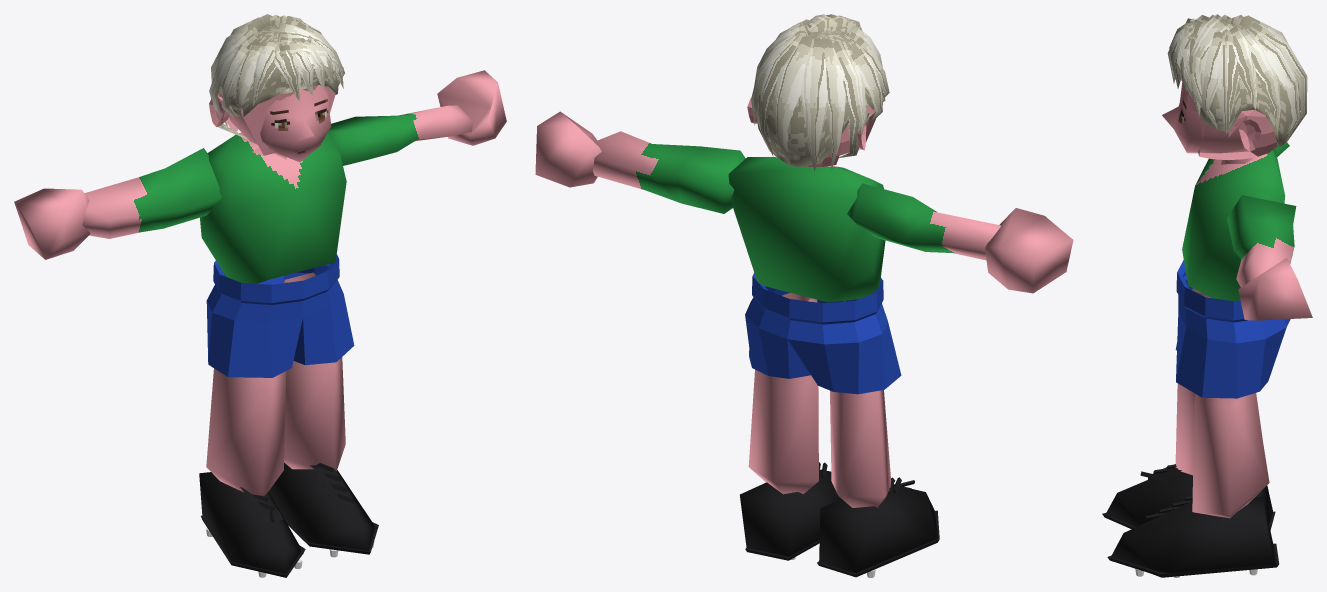
Rendered from 01-liso-repartido_loiro-pintado.glb.
3 views of the same model, side by side, from view 1: azimuth 30°, elevation 25°; view 2: azimuth 150°, elevation 25°; view 3: azimuth 270°, elevation 25° (orthographic). The views are drawn at different scales.
Parts seen in each view (by area): view 1: Camisa_Tronco, Bermuda, Cabelo, Perna.R, Braco.R, Perna.L, Chuteira.R, Chuteira.L, Braco.L, Mao.R, Cabeca, Mao.L (+3 smaller); view 2: Camisa_Tronco, Cabelo, Bermuda, Perna.L, Braco.L, Chuteira.R, Perna.R, Braco.R, Mao.R, Chuteira.L, Mao.L, Chuteira_Sola.R; view 3: Cabelo, Bermuda, Chuteira.L, Camisa_Tronco, Perna.L, Braco.L, Mao.L, Chuteira.R, Cabeca, Perna.R, Cranio, Chuteira_Sola.L (+3 smaller).
Part boxes in pixels (<box>): Camisa_Tronco: <box>200,132,346,283</box>; Bermuda: <box>206,254,354,377</box>; Cabelo: <box>209,14,344,139</box>; Perna.R: <box>206,368,286,500</box>; Braco.R: <box>82,148,222,238</box>; Perna.L: <box>284,272,345,471</box>; Chuteira.R: <box>199,472,303,573</box>; Chuteira.L: <box>269,462,374,550</box>; Braco.L: <box>328,105,473,165</box>; Mao.R: <box>14,188,90,259</box>; Cabeca: <box>221,85,331,162</box>; Mao.L: <box>437,70,506,145</box>; Camisa_Tronco: <box>728,157,885,302</box>; Cabelo: <box>751,14,889,170</box>; Bermuda: <box>745,273,901,394</box>; Perna.L: <box>748,293,818,494</box>; Braco.L: <box>593,131,745,213</box>; Chuteira.R: <box>819,484,937,572</box>; Perna.R: <box>830,390,891,507</box>; Braco.R: <box>847,183,1000,260</box>; Mao.R: <box>985,208,1073,293</box>; Chuteira.L: <box>740,469,841,556</box>; Mao.L: <box>535,111,601,187</box>; Chuteira_Sola.R: <box>817,510,939,577</box>; Cabelo: <box>1167,14,1307,146</box>; Bermuda: <box>1175,260,1290,398</box>; Chuteira.L: <box>1111,497,1276,577</box>; Camisa_Tronco: <box>1182,149,1285,301</box>; Perna.L: <box>1192,393,1269,518</box>; Braco.L: <box>1227,195,1296,287</box>; Mao.L: <box>1238,258,1312,320</box>; Chuteira.R: <box>1106,467,1272,526</box>; Cabeca: <box>1162,82,1248,153</box>; Perna.R: <box>1175,288,1262,475</box>; Cranio: <box>1198,110,1277,160</box>; Chuteira_Sola.L: <box>1107,543,1279,577</box>.
Bounding box in the file's own units: 0.4523 × 0.4524 × 0.1617.
3 materials, 3 textured.
